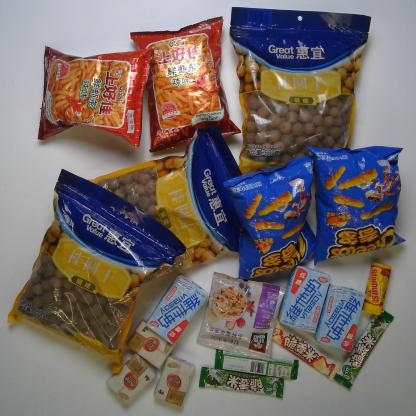Candy: (362, 254, 396, 314)
Chocolate: (334, 304, 398, 390), (266, 323, 342, 382), (192, 364, 301, 400), (212, 346, 314, 381)
Dried Food: (5, 156, 202, 378), (65, 119, 264, 287), (230, 5, 399, 169)
Instant Drink: (191, 264, 297, 355)
Milk: (144, 266, 209, 345), (276, 261, 334, 335), (315, 275, 364, 356)
Puffed Food: (132, 3, 241, 154), (20, 32, 158, 149), (304, 129, 410, 269), (213, 150, 321, 282)
Tissue: (121, 309, 183, 373), (154, 347, 208, 409), (99, 350, 156, 406)
